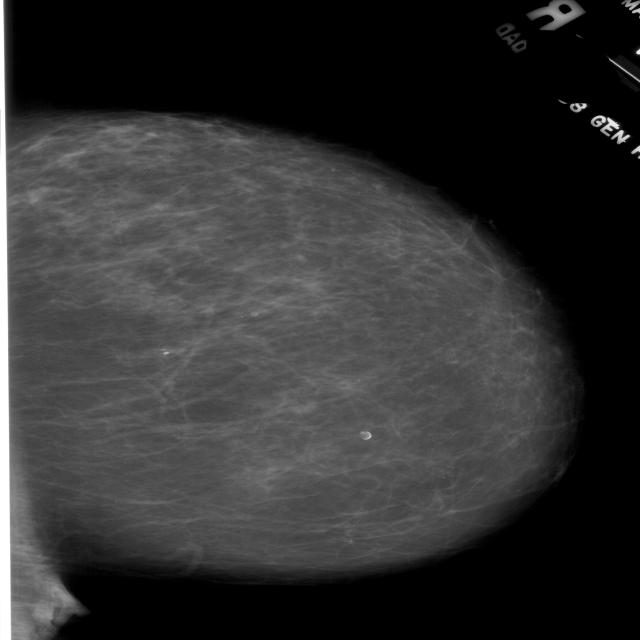normal: (0, 106, 602, 593)
